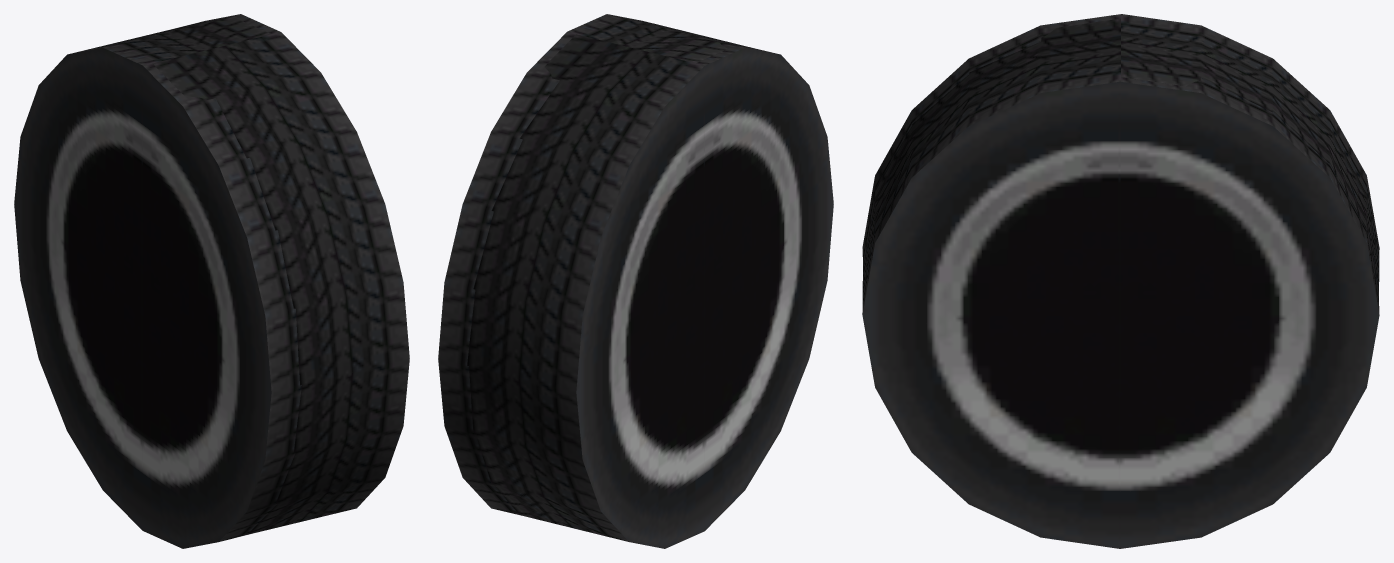
Rendered from wheel.fbx.
3 views of the same model, side by side, from view 1: azimuth 30°, elevation 25°; view 2: azimuth 150°, elevation 25°; view 3: azimuth 270°, elevation 25° (orthographic).
Parts seen in each view (by area): view 1: L, R 01; view 2: L, R 01; view 3: R 01, L.
Boxes of the visible parts, box(x1,y1,x2,y2) form: L: box(14, 20, 301, 548); R 01: box(152, 14, 409, 534); L: box(467, 34, 833, 548); R 01: box(438, 14, 750, 514); R 01: box(862, 18, 1379, 548); L: box(862, 14, 1379, 299).
Bounding box in the file's own units: 0.2059 × 0.6625 × 0.6644.
